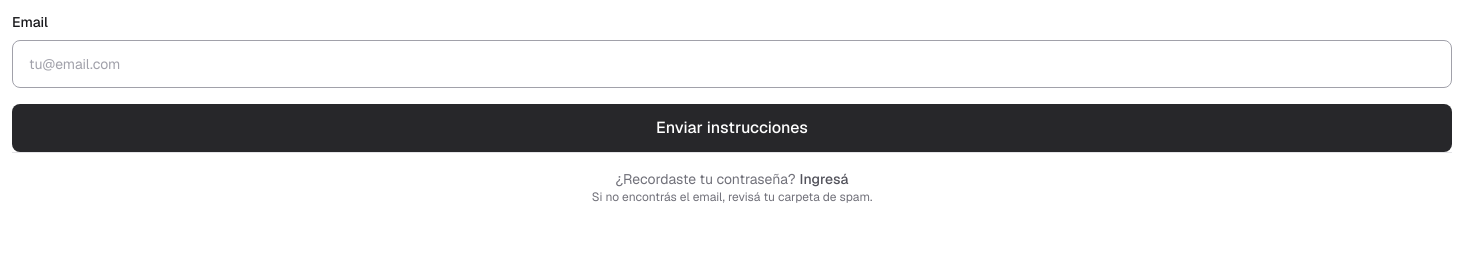
Scenario: PasswordRecoveryForm with real Authorizer › sends the email and shows the backend instructions
Type "cliente@example.com" into the field labelled "Email". click: x=732, y=64
box: [12,40,1452,88]
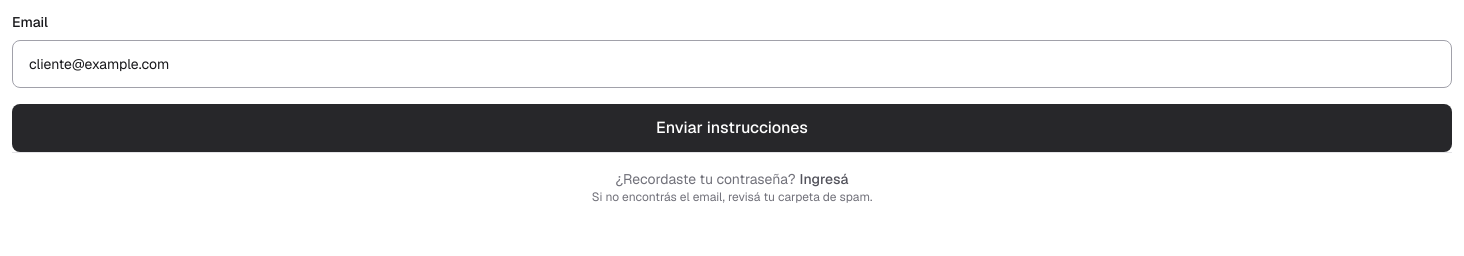
Click the button "Enviar instrucciones". click: x=732, y=128
box: [12,104,1452,152]
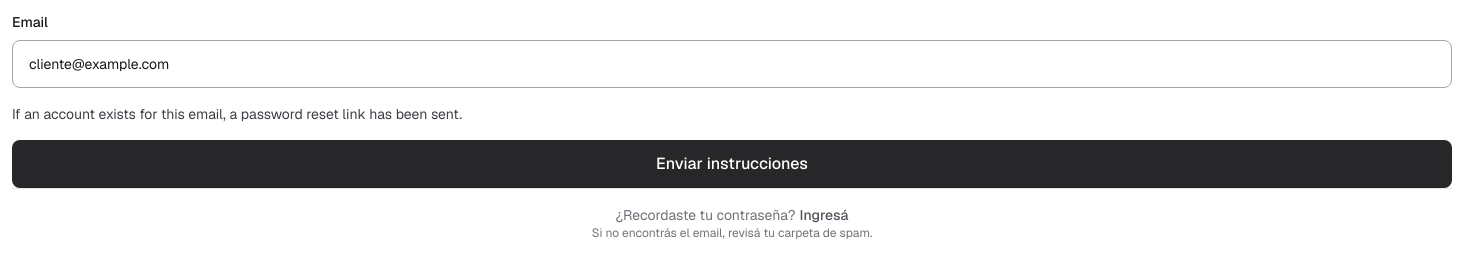
Now the message reads "If an account exists for this email, a password reset link has been sent.", box [12,105,462,123]
